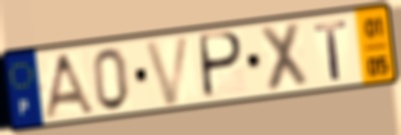0: (90, 44, 132, 113)
A: (40, 51, 98, 122)
P: (199, 30, 246, 101)
T: (311, 18, 351, 83)
V: (141, 32, 194, 109)
X: (257, 19, 311, 95)
